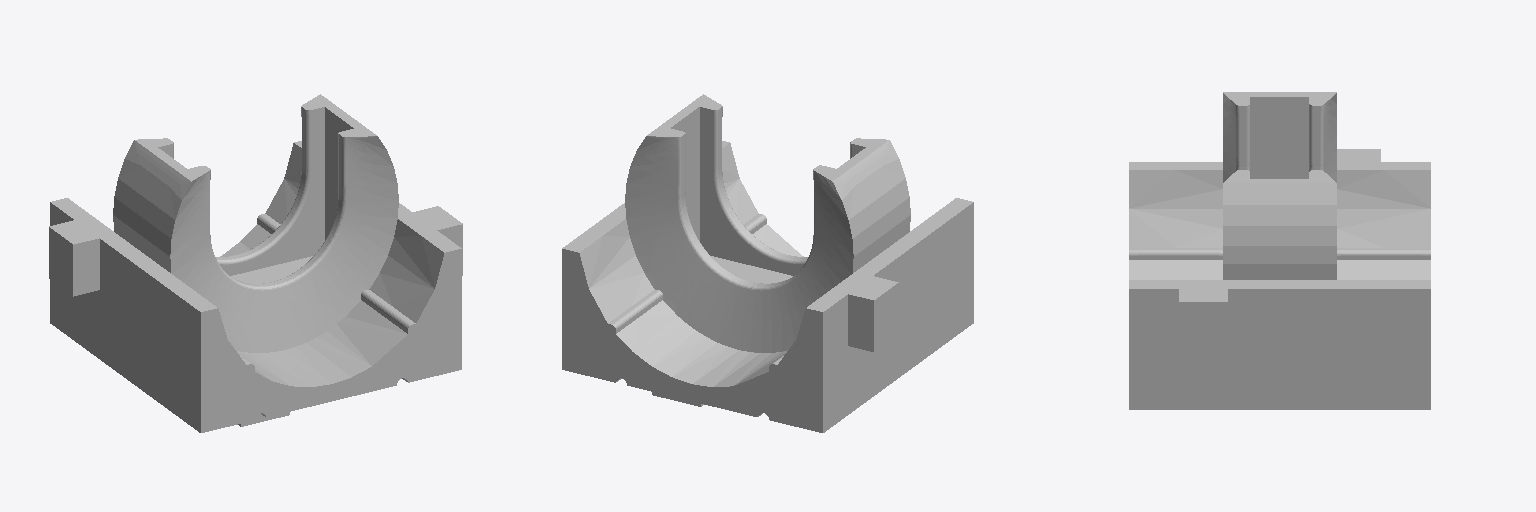
Rendered from BTM.obj.
The picture shows the model from 3 angles: view 1: azimuth 30°, elevation 25°; view 2: azimuth 150°, elevation 25°; view 3: azimuth 270°, elevation 25°; orthographic projection.
Parts seen in each view (by area): view 1: object_1; view 2: object_1; view 3: object_1.
Boxes of the visible parts, <box> form: object_1: <box>49,94,462,432</box>; object_1: <box>562,94,973,432</box>; object_1: <box>1129,92,1430,409</box>.
Bounding box in the file's own units: 19.2 × 13.82 × 16.